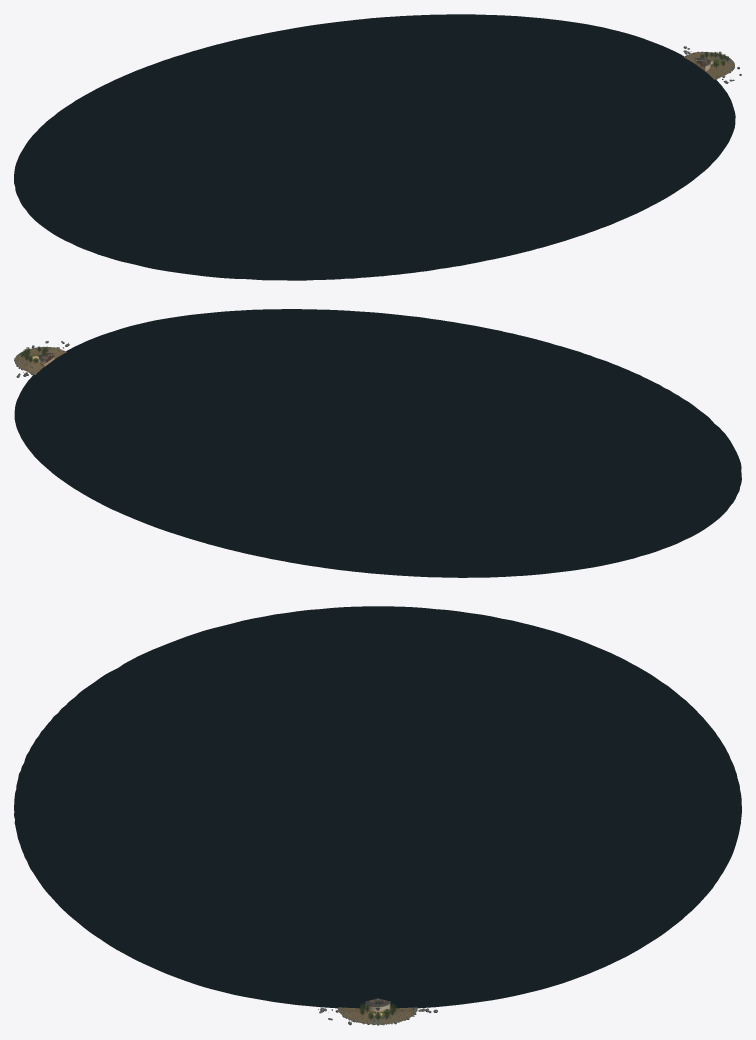
The model's file is moonlit-meditation.glb.
3 renders of one model, top to bottom at view 1: azimuth 30°, elevation 25°; view 2: azimuth 150°, elevation 25°; view 3: azimuth 270°, elevation 25°, orthographic. The views are drawn at different scales.
Parts seen in each view (by area): view 1: WATER_lake, SITE_ground; view 2: WATER_lake, SITE_ground; view 3: WATER_lake, SITE_ground.
Boxes of the visible parts, bbox=[...] form: WATER_lake: bbox=[14, 14, 735, 280]; SITE_ground: bbox=[683, 52, 734, 79]; WATER_lake: bbox=[14, 309, 741, 577]; SITE_ground: bbox=[14, 347, 66, 374]; WATER_lake: bbox=[14, 606, 741, 1008]; SITE_ground: bbox=[338, 1007, 417, 1024].
Size of the model in its own units: 999 by 17.14 by 730.
Materials: 26 (17 with a texture image).
